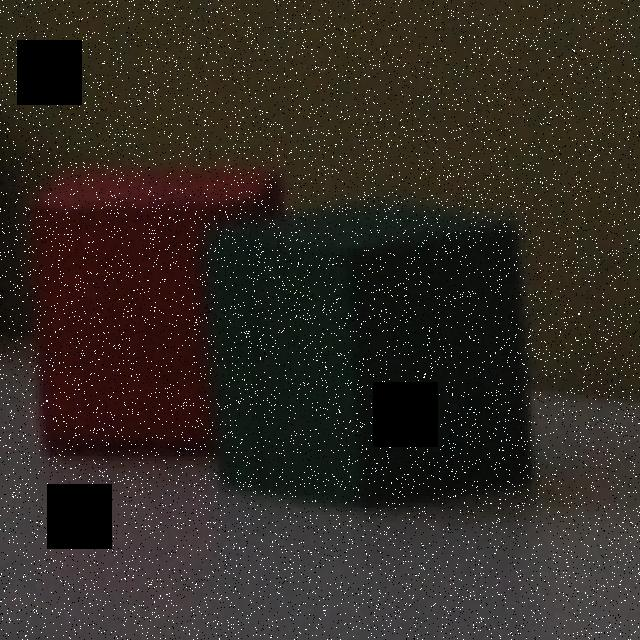green cube: (206, 200, 533, 500)
red cube: (25, 169, 283, 456)
